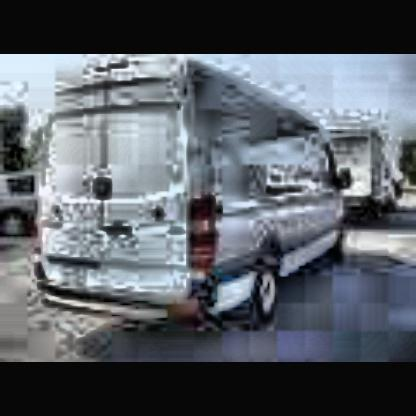Dodge Sprinter Cargo Van 2009: (36, 58, 354, 349)
